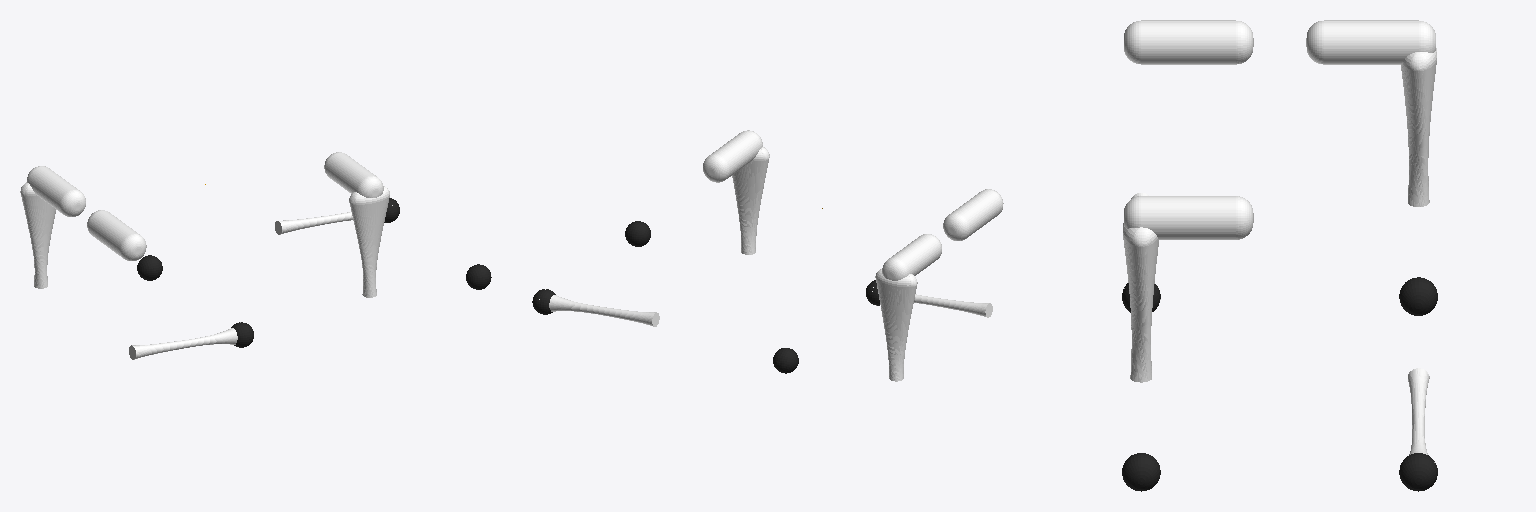
--- What the picture shows (computed from the rendered views, not written in the file) ---
Views: 3 orthographic renders of the robot side by side, from view 1: azimuth 30°, elevation 25°; view 2: azimuth 150°, elevation 25°; view 3: azimuth 270°, elevation 25°.
Robot: cyberdog_description — 19 links, 18 joints (12 revolute, 6 fixed); root link body; default pose: all joints at 0 but 4 set to mid-range because 0 is outside their limits (1 = -1.49, 3 = -1.49, 5 = -1.49, 7 = -1.49).
Visible links, largest first — view 1: upper2, upper1, hip3, hip1, hip2, lower3, lower0; view 2: upper1, upper2, hip3, hip2, hip1, lower0, lower3, toe2; view 3: hip3, hip1, hip2, upper2, upper1, lower0, toe1, toe2, toe0.
Link boxes in pixels (x1,y1,x2,y2): upper2: [349, 186, 389, 297]; upper1: [20, 182, 55, 288]; hip3: [87, 210, 146, 260]; hip1: [27, 166, 85, 216]; hip2: [324, 152, 383, 197]; lower3: [129, 322, 240, 359]; lower0: [275, 205, 392, 234]; upper1: [875, 269, 917, 381]; upper2: [732, 147, 769, 254]; hip3: [943, 189, 1003, 240]; hip2: [703, 130, 762, 182]; hip1: [882, 234, 941, 280]; lower0: [539, 289, 659, 326]; lower3: [872, 287, 992, 317]; toe2: [625, 221, 650, 246]; hip3: [1124, 20, 1253, 64]; hip1: [1306, 20, 1435, 64]; hip2: [1124, 196, 1253, 239]; upper2: [1123, 223, 1158, 382]; upper1: [1401, 48, 1436, 206]; lower0: [1408, 368, 1434, 462]; toe1: [1399, 277, 1437, 315]; toe2: [1122, 453, 1160, 491]; toe0: [1399, 453, 1437, 491].
Size in the robot's own frame: 0.748 by 0.3583 by 0.264 metres.
Meshes: 13 distinct files referenced, 7 mesh visuals loaded (7 binary STL); not drawn: 6 (reference not matched to a file when rendering).

robot.urdf — cyberdog_description:
<?xml version="1.0" encoding="utf-8"?>
<!-- This URDF was automatically created by SolidWorks to URDF Exporter! Originally created by Stephen Brawner ([email redacted]) 
     Commit Version: 1.6.0-4-g7f85cfe  Build Version: 1.6.7995.38578
     For more information, please see http://wiki.ros.org/sw_urdf_exporter -->
<robot name="cyberdog_description">
  <material name="black">
    <color rgba="0.0 0.0 0.0 1.0"/>
  </material>
  <material name="blue">
    <color rgba="0.0 0.0 0.8 1.0"/>
  </material>
  <material name="green">
    <color rgba="0.0 0.8 0.0 1.0"/>
  </material>
  <material name="grey">
    <color rgba="0.2 0.2 0.2 1.0"/>
  </material>
  <material name="silver">
    <color rgba="0.913725490196 0.913725490196 0.847058823529 1.0"/>
  </material>
  <material name="orange">
    <color rgba="1.0 0.423529411765 0.0392156862745 1.0"/>
  </material>
  <material name="brown">
    <color rgba="0.870588235294 0.811764705882 0.764705882353 1.0"/>
  </material>
  <material name="red">
    <color rgba="0.8 0.0 0.0 1.0"/>
  </material>
  <material name="white">
    <color rgba="1.0 1.0 1.0 1.0"/>
  </material>
  <!-- ros_control plugin -->
  <gazebo>
    <plugin filename="libgazebo_ros_control.so" name="gazebo_ros_control">
      <robotSimType>gazebo_ros_control/DefaultRobotHWSim</robotSimType>
    </plugin>
    <plugin filename="libground_truth_estimator.so" name="ground_truth_estimator">
      <updateRateHZ>500.0</updateRateHZ>
    </plugin>
  </gazebo>
  <!-- Show the trajectory of trunk center. -->
  <!-- <gazebo>
    <plugin filename="libLinkPlot3DPlugin.so" name="3dplotbody">
      <frequency>10</frequency>
      <plot>
        <link>body</link>
        <pose>0 0 0 0 0 0</pose>
        <material>Gazebo/Yellow</material>
      </plot>
    </plugin>
  </gazebo> -->
  <!-- Show the trajectory of foot. You can add another trajectory about another foot. -->
  <!-- <gazebo>
    <plugin filename="libLinkPlot3DPlugin.so" name="3dplot">
      <frequency>1000</frequency>
      <plot>
        <link>lower2</link>
        <pose>0 0 -0.217 0 0 0</pose>
        <material>Gazebo/Yellow</material>
      </plot>
    </plugin>
  </gazebo> -->
  <gazebo>
    <plugin filename="libgazebo_ros_force.so" name="gazebo_ros_force">
      <bodyName>trunk</bodyName>
      <topicName>/apply_force/trunk</topicName>
    </plugin>
  </gazebo>
  <gazebo reference="imu_link">
    <gravity>true</gravity>
    <sensor name="imu_sensor" type="imu">
      <always_on>true</always_on>
      <update_rate>1000</update_rate>
      <visualize>true</visualize>
      <topic>__default_topic__</topic>
      <plugin filename="libgazebo_ros_imu_sensor.so" name="imu_plugin">
        <topicName>trunk_imu</topicName>
        <bodyName>imu_link</bodyName>
        <updateRateHZ>1000.0</updateRateHZ>
        <gaussianNoise>0.0</gaussianNoise>
        <xyzOffset>0 0 0</xyzOffset>
        <rpyOffset>0 0 0</rpyOffset>
        <frameName>imu_link</frameName>
      </plugin>
      <pose>0 0 0 0 0 0</pose>
    </sensor>
  </gazebo>
  <!-- Foot contacts. -->
  <!-- <gazebo reference="lower2">
    <sensor name="toe2_contact" type="contact">
      <update_rate>100</update_rate>
      <plugin filename="libunitreeFootContactPlugin.so" name="contactPlugin"/>
      <contact>
        <collision>lower2_fixed_joint_lump__toe2_collision_1</collision>
      </contact>
    </sensor>
  </gazebo>
  <gazebo reference="lower0">
    <sensor name="toe0_contact" type="contact">
      <update_rate>100</update_rate>
      <plugin filename="libunitreeFootContactPlugin.so" name="contactPlugin"/>
      <contact>
        <collision>lower0_fixed_joint_lump__toe0_collision_1</collision>
      </contact>
    </sensor>
  </gazebo>
  <gazebo reference="lower3">
    <sensor name="toe3_contact" type="contact">
      <update_rate>100</update_rate>
      <plugin filename="libunitreeFootContactPlugin.so" name="contactPlugin"/>
      <contact>
        <collision>lower3_fixed_joint_lump__toe3_collision_1</collision>
      </contact>
    </sensor>
  </gazebo>
  <gazebo reference="lower1">
    <sensor name="toe1_contact" type="contact">
      <update_rate>100</update_rate>
      <plugin filename="libunitreeFootContactPlugin.so" name="contactPlugin"/>
      <contact>
        <collision>lower1_fixed_joint_lump__toe1_collision_1</collision>
      </contact>
    </sensor>
  </gazebo> -->
  <gazebo reference="toe0">
    <sensor name="toe0_contact" type="contact">
      <plugin filename="libgazebo_ros_bumper.so" name="toe0_plugin">
        <alwaysOn>true</alwaysOn>
        <updateRate>500</updateRate>
        <bumperTopicName>gazebo/toe0_contact_state</bumperTopicName>
        <frameName>world</frameName>
      </plugin>
      <contact>
        <collision>toe0_collision</collision>
      </contact>
      <update_rate>500</update_rate>
    </sensor>
  </gazebo>
  <gazebo reference="toe1">
    <sensor name="toe1_contact" type="contact">
      <plugin filename="libgazebo_ros_bumper.so" name="toe1_plugin">
        <alwaysOn>true</alwaysOn>
        <updateRate>500</updateRate>
        <bumperTopicName>gazebo/toe1_contact_state</bumperTopicName>
        <frameName>world</frameName>
      </plugin>
      <contact>
        <collision>toe1_collision</collision>
      </contact>
      <update_rate>500</update_rate>
    </sensor>
  </gazebo>
  <gazebo reference="toe2">
    <sensor name="toe2_contact" type="contact">
      <plugin filename="libgazebo_ros_bumper.so" name="toe2_plugin">
        <alwaysOn>true</alwaysOn>
        <updateRate>500</updateRate>
        <bumperTopicName>gazebo/toe2_contact_state</bumperTopicName>
        <frameName>world</frameName>
      </plugin>
      <contact>
        <collision>toe2_collision</collision>
      </contact>
      <update_rate>500</update_rate>
    </sensor>
  </gazebo>
  <gazebo reference="toe3">
    <sensor name="toe3_contact" type="contact">
      <plugin filename="libgazebo_ros_bumper.so" name="toe3_plugin">
        <alwaysOn>true</alwaysOn>
        <updateRate>500</updateRate>
        <bumperTopicName>gazebo/toe3_contact_state</bumperTopicName>
        <frameName>world</frameName>
      </plugin>
      <contact>
        <collision>toe3_collision</collision>
      </contact>
      <update_rate>500</update_rate>
    </sensor>
  </gazebo>
  <!-- Visualization of Foot contacts. -->
  <!-- <gazebo reference="toe2">
    <visual>
      <plugin filename="libunitreeDrawForcePlugin.so" name="drawForcePlugin">
        <topicName>toe2_contact</topicName>
      </plugin>
    </visual>
  </gazebo>
  <gazebo reference="toe0">
    <visual>
      <plugin filename="libunitreeDrawForcePlugin.so" name="drawForcePlugin">
        <topicName>toe0_contact</topicName>
      </plugin>
    </visual>
  </gazebo>
  <gazebo reference="toe3">
    <visual>
      <plugin filename="libunitreeDrawForcePlugin.so" name="drawForcePlugin">
        <topicName>toe3_contact</topicName>
      </plugin>
    </visual>
  </gazebo>
  <gazebo reference="toe1">
    <visual>
      <plugin filename="libunitreeDrawForcePlugin.so" name="drawForcePlugin">
        <topicName>toe1_contact</topicName>
      </plugin>
    </visual>
  </gazebo> -->
  <gazebo reference="body">
    <material>Gazebo/Green</material>
    <turnGravityOff>false</turnGravityOff>
  </gazebo>
  <gazebo reference="trunk">
    <mu1>0.2</mu1>
    <mu2>0.2</mu2>
    <kp value="1000000.0"/>
    <kd value="1.0"/>
  </gazebo>
  <gazebo reference="imu_link">
    <mu1>0.2</mu1>
    <mu2>0.2</mu2>
    <material>Gazebo/Red</material>
  </gazebo>
  <!-- FR leg -->
  <gazebo reference="hip2">
    <mu1>0.2</mu1>
    <mu2>0.2</mu2>
    <material>Gazebo/DarkGrey</material>
  </gazebo>
  <gazebo reference="upper2">
    <mu1>0.2</mu1>
    <mu2>0.2</mu2>
    <self_collide>1</self_collide>
    <material>Gazebo/DarkGrey</material>
    <kp value="1000000.0"/>
    <kd value="1.0"/>
  </gazebo>
  <gazebo reference="lower2">
    <mu1>0.2</mu1>
    <mu2>0.2</mu2>
    <self_collide>1</self_collide>
  </gazebo>
  <gazebo reference="toe2">
    <mu1>0.6</mu1>
    <mu2>0.6</mu2>
    <self_collide>1</self_collide>
    <material>Gazebo/DarkGrey</material>
    <kp value="1000000.0"/>
    <kd value="1.0"/>
  </gazebo>
  <!-- FL leg -->
  <gazebo reference="hip0">
    <mu1>0.2</mu1>
    <mu2>0.2</mu2>
    <material>Gazebo/DarkGrey</material>
  </gazebo>
  <gazebo reference="upper0">
    <mu1>0.2</mu1>
    <mu2>0.2</mu2>
    <self_collide>1</self_collide>
    <material>Gazebo/DarkGrey</material>
    <kp value="1000000.0"/>
    <kd value="1.0"/>
  </gazebo>
  <gazebo reference="lower0">
    <mu1>0.2</mu1>
    <mu2>0.2</mu2>
    <self_collide>1</self_collide>
  </gazebo>
  <gazebo reference="toe0">
    <mu1>0.6</mu1>
    <mu2>0.6</mu2>
    <self_collide>1</self_collide>
    <material>Gazebo/DarkGrey</material>
    <kp value="1000000.0"/>
    <kd value="1.0"/>
  </gazebo>
  <!-- RR leg -->
  <gazebo reference="hip3">
    <mu1>0.2</mu1>
    <mu2>0.2</mu2>
    <material>Gazebo/DarkGrey</material>
  </gazebo>
  <gazebo reference="upper3">
    <mu1>0.2</mu1>
    <mu2>0.2</mu2>
    <self_collide>1</self_collide>
    <material>Gazebo/DarkGrey</material>
    <kp value="1000000.0"/>
    <kd value="1.0"/>
  </gazebo>
  <gazebo reference="lower3">
    <mu1>0.2</mu1>
    <mu2>0.2</mu2>
    <self_collide>1</self_collide>
  </gazebo>
  <gazebo reference="toe3">
    <mu1>0.6</mu1>
    <mu2>0.6</mu2>
    <self_collide>1</self_collide>
    <material>Gazebo/DarkGrey</material>
    <kp value="1000000.0"/>
    <kd value="1.0"/>
  </gazebo>
  <!-- RL leg -->
  <gazebo reference="hip1">
    <mu1>0.2</mu1>
    <mu2>0.2</mu2>
    <material>Gazebo/DarkGrey</material>
  </gazebo>
  <gazebo reference="upper1">
    <mu1>0.2</mu1>
    <mu2>0.2</mu2>
    <self_collide>1</self_collide>
    <material>Gazebo/DarkGrey</material>
    <kp value="1000000.0"/>
    <kd value="1.0"/>
  </gazebo>
  <gazebo reference="lower1">
    <mu1>0.2</mu1>
    <mu2>0.2</mu2>
    <self_collide>1</self_collide>
  </gazebo>
  <gazebo reference="toe1">
    <mu1>0.6</mu1>
    <mu2>0.6</mu2>
    <self_collide>1</self_collide>
    <material>Gazebo/DarkGrey</material>
    <kp value="1000000.0"/>
    <kd value="1.0"/>
  </gazebo>

  <!-- 悬挂 -->
  <!-- <link name="world"/>
  <joint name="body_static_joint" type="fixed">
      <origin rpy="0 0 0" xyz="0 0 0"/>
      <parent link="world"/>
      <child link="body"/>
  </joint> -->

  <link name="body">
    <visual>
      <origin rpy="0 0 0" xyz="0 0 0"/>
      <geometry>
        <box size="0.001 0.001 0.001"/>
      </geometry>
    </visual>
  </link>
  <joint name="floating_base" type="fixed">
    <origin rpy="0 0 0" xyz="0 0 0"/>
    <parent link="body"/>
    <child link="trunk"/>
  </joint>
  <link name="trunk">
    <inertial>
      <origin
        xyz="0 0 0"
        rpy="0 0 0" />
      <mass value="7.18" />
      <inertia
        ixx="0.032051"
        ixy="-0.00023217"
        ixz="0.002728"
        iyy="0.13707"
        iyz="5.6623E-05"
        izz="0.14946" />
    </inertial>
    <visual>
      <origin
        xyz="0 0 0"
        rpy="0 0 0" />
      <geometry>
        <mesh filename="package://cyberdog_description/meshes/body.STL" />
      </geometry>
      <material name="">
        <color rgba="1 1 1 1" />
      </material>
    </visual>
    <collision>
      <origin
        xyz="0 0 0"
        rpy="0 0 0" />
      <geometry>
        <mesh filename="package://cyberdog_description/meshes/body.STL" />
      </geometry>
    </collision>
  </link>

  <joint name="imu_joint" type="fixed">
    <parent link="trunk"/>
    <child link="imu_link"/>
    <origin rpy="0 0 0" xyz="0 0 0"/>
  </joint>
  <link name="imu_link">
    <!-- <inertial>
      <mass value="0.001"/>
      <origin rpy="0 0 0" xyz="0 0 0"/>
      <inertia ixx="0.0001" ixy="0" ixz="0" iyy="0.0001" iyz="0" izz="0.0001"/>
    </inertial>
    <visual>
      <origin rpy="0 0 0" xyz="0 0 0"/>
      <geometry>
        <box size="0.001 0.001 0.001"/>
      </geometry>
      <material name="red"/>
    </visual>
    <collision>
      <origin rpy="0 0 0" xyz="0 0 0"/>
      <geometry>
        <box size=".001 .001 .001"/>
      </geometry>
    </collision> -->
  </link>

  <link name="hip0">
    <inertial>
      <origin
        xyz="0 0.053575 0"
        rpy="0 0 0" />
      <mass value="0.509" />
      <inertia
        ixx="0.00038097"
        ixy="1.2523E-05"
        ixz="-1.1653E-05"
        iyy="0.00069383"
        iyz="5.071E-06"
        izz="0.00047336" />
    </inertial>
    <visual>
      <origin
        xyz="0 0 0"
        rpy="0 0 0" />
      <geometry>
        <mesh filename="package://cyberdog_description/meshes/link_abad_fl.STL" />
      </geometry>
      <material name="">
        <color rgba="1 1 1 1" />
      </material>
    </visual>
    <collision>
      <origin
        xyz="0 0 0"
        rpy="0 0 0" />
      <geometry>
        <mesh filename="package://cyberdog_description/meshes/link_abad_fl.STL" />
      </geometry>
    </collision>
  </link>
  <joint
    name="8"
    type="revolute">
    <origin
      xyz="0.23536 0.05 0"
      rpy="0 0 0" />
    <parent link="trunk" />
    <child link="hip0" />
    <axis xyz="1 0 0" />
    <limit
      lower="-0.75"
      upper="0.75"
      effort="17"
      velocity="12" />
    <dynamics
      damping="0.01"
      friction="0.2" />
  </joint>
  <link name="upper0">
    <inertial>
      <origin
        xyz="0 0 -0.1"
        rpy="0 0 0" />
      <mass value="0.664" />
      <inertia
        ixx="0.0033376"
        ixy="-7.150375E-07"
        ixz="-0.00019282"
        iyy="0.0026385"
        iyz="-9.3033E-06"
        izz="0.0013093" />
    </inertial>
    <visual>
      <origin
        xyz="0 0 0"
        rpy="0 0 0" />
      <geometry>
        <mesh filename="package://cyberdog_description/meshes/link_hip_fl.STL" />
      </geometry>
      <material name="">
        <color rgba="1 1 1 1" />
      </material>
    </visual>
    <collision>
      <origin
        xyz="0 0 0"
        rpy="0 0 0" />
      <geometry>
        <mesh filename="package://cyberdog_description/meshes/link_hip_fl.STL" />
      </geometry>
    </collision>
  </link>
  <joint
    name="0"
    type="revolute">
    <origin
      xyz="0 0.10715 0"
      rpy="0 0 0" />
    <parent link="hip0" />
    <child link="upper0" />
    <axis xyz="0 1 0" />
    <limit
      lower="-1.257"
      upper="4.363"
      effort="24"
      velocity="12" />
    <dynamics
      damping="0.01"
      friction="0.2" />
  </joint>
  <link name="lower0">
    <inertial>
      <origin
        xyz="0 0 -0.11439"
        rpy="0 0 0" />
      <mass value="0.114" />
      <inertia
        ixx="0.0014553"
        ixy="-3.2376E-08"
        ixz="8.3885E-05"
        iyy="0.0021522"
        iyz="5.1259E-07"
        izz="0.00070545" />
    </inertial>
    <visual>
      <origin
        xyz="0 0 0"
        rpy="0 0 0" />
      <geometry>
        <mesh filename="package://cyberdog_description/meshes/link_knee_fl.STL" />
      </geometry>
      <material name="">
        <color rgba="1 1 1 1" />
      </material>
    </visual>
    <collision>
      <origin
        xyz="0 0 0"
        rpy="0 0 0" />
      <geometry>
        <mesh filename="package://cyberdog_description/meshes/link_knee_fl.STL" />
      </geometry>
    </collision>
  </link>
  <joint
    name="1"
    type="revolute">
    <origin
      xyz="0 0 -0.2"
      rpy="0 0 0" />
    <parent link="upper0" />
    <child link="lower0" />
    <axis xyz="0 1 0" />
    <limit
      lower="-2.478"
      upper="-0.506"
      effort="24"
      velocity="12" />
    <dynamics
      damping="0.01"
      friction="0.2" />
  </joint>
  <joint name="jtoe0" type="fixed">
    <origin rpy="0 0 0" xyz="0 0 -0.217"/>
    <parent link="lower0"/>
    <child link="toe0"/>
  </joint>
  <link name="toe0">
    <visual>
      <origin rpy="0 0 0" xyz="0 0 0"/>
      <geometry>
        <sphere radius="0.022"/>
      </geometry>
      <material name="grey"/>
    </visual>
    <collision>
      <origin rpy="0 0 0" xyz="0 0 0"/>
      <geometry>
        <sphere radius="0.022"/>
      </geometry>
    </collision>
    <inertial>
      <mass value="0.06"/>
      <inertia ixx="0.0" ixy="0.0" ixz="0.0" iyy="0.0" iyz="0.0" izz="0.0"/>
    </inertial>
  </link>

  <transmission name="transmission_8">
    <type>transmission_interface/SimpleTransmission</type>
    <joint name="8">
      <hardwareInterface>hardware_interface/EffortJointInterface</hardwareInterface>
    </joint>
    <actuator name="motor_8">
      <hardwareInterface>hardware_interface/EffortJointInterface</hardwareInterface>
      <mechanicalReduction>1</mechanicalReduction>
    </actuator>
  </transmission>
  <transmission name="transmission_0">
    <type>transmission_interface/SimpleTransmission</type>
    <joint name="0">
      <hardwareInterface>hardware_interface/EffortJointInterface</hardwareInterface>
    </joint>
    <actuator name="motor_0">
      <hardwareInterface>hardware_interface/EffortJointInterface</hardwareInterface>
      <mechanicalReduction>1</mechanicalReduction>
    </actuator>
  </transmission>
  <transmission name="transmission_1">
    <type>transmission_interface/SimpleTransmission</type>
    <joint name="1">
      <hardwareInterface>hardware_interface/EffortJointInterface</hardwareInterface>
    </joint>
    <actuator name="motor_1">
      <hardwareInterface>hardware_interface/EffortJointInterface</hardwareInterface>
      <mechanicalReduction>1</mechanicalReduction>
    </actuator>
  </transmission>

  <link name="hip1">
    <inertial>
      <origin
        xyz="0 0.053575 0"
        rpy="0 0 0" />
      <mass value="0.509" />
      <inertia
        ixx="0.00038097"
        ixy="1.2523E-05"
        ixz="-1.1653E-05"
        iyy="0.00069383"
        iyz="5.071E-06"
        izz="0.00047336" />
    </inertial>
    <visual>
      <origin
        xyz="0 0 0"
        rpy="0 0 0" />
      <geometry>
        <mesh filename="package://cyberdog_description/meshes/link_abad_bl.STL" />
      </geometry>
      <material name="">
        <color rgba="1 1 1 1" />
      </material>
    </visual>
    <collision>
      <origin
        xyz="0 0 0"
        rpy="0 0 0" />
      <geometry>
        <mesh filename="package://cyberdog_description/meshes/link_abad_bl.STL" />
      </geometry>
    </collision>
  </link>
  <joint
    name="9"
    type="revolute">
    <origin
      xyz="-0.23536 0.05 0"
      rpy="0 0 0" />
    <parent link="trunk" />
    <child link="hip1" />
    <axis xyz="1 0 0" />
    <limit
      lower="-0.75"
      upper="0.75"
      effort="17"
      velocity="12" />
    <dynamics
      damping="0.01"
      friction="0.2" />
  </joint>
  <link name="upper1">
    <inertial>
      <origin
        xyz="0 0 -0.1"
        rpy="0 0 0" />
      <mass value="0.664" />
      <inertia
        ixx="0.0033376"
        ixy="-7.1504E-07"
        ixz="-0.00019282"
        iyy="0.0026385"
        iyz="-9.3033E-06"
        izz="0.0013093" />
    </inertial>
    <visual>
      <origin
        xyz="0 0 0"
        rpy="0 0 0" />
      <geometry>
        <mesh filename="package://cyberdog_description/meshes/link_hip_bl.STL" />
      </geometry>
      <material name="">
        <color rgba="1 1 1 1" />
      </material>
    </visual>
    <collision>
      <origin
        xyz="0 0 0"
        rpy="0 0 0" />
      <geometry>
        <mesh filename="package://cyberdog_description/meshes/link_hip_bl.STL" />
      </geometry>
    </collision>
  </link>
  <joint
    name="2"
    type="revolute">
    <origin
      xyz="0 0.10715 0"
      rpy="0 0 0" />
    <parent link="hip1" />
    <child link="upper1" />
    <axis xyz="0 1 0" />
    <limit
      lower="-2.01"
      upper="3.49"
      effort="24"
      velocity="12" />
    <dynamics
      damping="0.01"
      friction="0.2" />
  </joint>
  <link name="lower1">
    <inertial>
      <origin
        xyz="0 0 -0.11439"
        rpy="0 0 0" />
      <mass value="0.114" />
      <inertia
        ixx="0.0014553"
        ixy="-3.2376E-08"
        ixz="8.3885E-05"
        iyy="0.0021522"
        iyz="5.1259E-07"
        izz="0.00070545" />
    </inertial>
    <visual>
      <origin
        xyz="0 0 0"
        rpy="0 0 0" />
      <geometry>
        <mesh filename="package://cyberdog_description/meshes/link_knee_bl.STL" />
      </geometry>
      <material name="">
        <color rgba="1 1 1 1" />
      </material>
    </visual>
    <collision>
      <origin
        xyz="0 0 0"
        rpy="0 0 0" />
      <geometry>
        <mesh filename="package://cyberdog_description/meshes/link_knee_bl.STL" />
      </geometry>
    </collision>
  </link>
  <joint
    name="3"
    type="revolute">
    <origin
      xyz="0 0 -0.2"
      rpy="0 0 0" />
    <parent link="upper1" />
    <child link="lower1" />
    <axis xyz="0 1 0" />
    <limit
      lower="-2.478"
      upper="-0.506"
      effort="24"
      velocity="12" />
    <dynamics
      damping="0.01"
      friction="0.2" />
  </joint>
  <joint name="jtoe1" type="fixed">
    <origin rpy="0 0 0" xyz="0 0 -0.217"/>
    <parent link="lower1"/>
    <child link="toe1"/>
  </joint>
  <link name="toe1">
    <visual>
      <origin rpy="0 0 0" xyz="0 0 0"/>
      <geometry>
        <sphere radius="0.022"/>
      </geometry>
      <material name="grey"/>
    </visual>
    <collision>
      <origin rpy="0 0 0" xyz="0 0 0"/>
      <geometry>
        <sphere radius="0.022"/>
      </geometry>
    </collision>
    <inertial>
      <mass value="0.06"/>
      <inertia ixx="0.0" ixy="0.0" ixz="0.0" iyy="0.0" iyz="0.0" izz="0.0"/>
    </inertial>
  </link>

  <transmission name="transmission_9">
    <type>transmission_interface/SimpleTransmission</type>
    <joint name="9">
      <hardwareInterface>hardware_interface/EffortJointInterface</hardwareInterface>
    </joint>
    <actuator name="motor_9">
      <hardwareInterface>hardware_interface/EffortJointInterface</hardwareInterface>
      <mechanicalReduction>1</mechanicalReduction>
    </actuator>
  </transmission>
  <transmission name="transmission_2">
    <type>transmission_interface/SimpleTransmission</type>
    <joint name="2">
      <hardwareInterface>hardware_interface/EffortJointInterface</hardwareInterface>
    </joint>
    <actuator name="motor_2">
      <hardwareInterface>hardware_interface/EffortJointInterface</hardwareInterface>
      <mechanicalReduction>1</mechanicalReduction>
    </actuator>
  </transmission>
  <transmission name="transmission_3">
    <type>transmission_interface/SimpleTransmission</type>
    <joint name="3">
      <hardwareInterface>hardware_interface/EffortJointInterface</hardwareInterface>
    </joint>
    <actuator name="motor_3">
      <hardwareInterface>hardware_interface/EffortJointInterface</hardwareInterface>
      <mechanicalReduction>1</mechanicalReduction>
    </actuator>
  </transmission>

  <link name="hip2">
    <inertial>
      <origin
        xyz="0 -0.053575 0"
        rpy="0 0 0" />
      <mass value="0.509" />
      <inertia
        ixx="0.00038097"
        ixy="1.2523E-05"
        ixz="-1.1653E-05"
        iyy="0.00069383"
        iyz="5.071E-06"
        izz="0.00047336" />
    </inertial>
    <visual>
      <origin
        xyz="0 0 0"
        rpy="0 0 0" />
      <geometry>
        <mesh filename="package://cyberdog_description/meshes/link_abad_fr.STL" />
      </geometry>
      <material name="">
        <color rgba="1 1 1 1" />
      </material>
    </visual>
    <collision>
      <origin
        xyz="0 0 0"
        rpy="0 0 0" />
      <geometry>
        <mesh filename="package://cyberdog_description/meshes/link_abad_fr.STL" />
      </geometry>
    </collision>
  </link>
  <joint
    name="10"
    type="revolute">
    <origin
      xyz="0.23536 -0.05 0"
      rpy="0 0 0" />
    <parent link="trunk" />
    <child link="hip2" />
    <axis xyz="1 0 0" />
    <limit
      lower="-0.75"
      upper="0.75"
      effort="17"
      velocity="12" />
    <dynamics
      damping="0.01"
      friction="0.2" />
  </joint>
  <link name="upper2">
    <inertial>
      <origin
        xyz="0 0 -0.1"
        rpy="0 0 0" />
      <mass value="0.664" />
      <inertia
        ixx="0.0033376"
        ixy="-7.1504E-07"
        ixz="-0.00019282"
        iyy="0.0026385"
        iyz="-9.3033E-06"
        izz="0.0013093" />
    </inertial>
    <visual>
      <origin
        xyz="0 0 0"
        rpy="0 0 0" />
      <geometry>
        <mesh filename="package://cyberdog_description/meshes/link_hip_fr.STL" />
      </geometry>
      <material name="">
        <color rgba="1 1 1 1" />
      </material>
    </visual>
    <collision>
      <origin
        xyz="0 0 0"
        rpy="0 0 0" />
      <geometry>
        <mesh filename="package://cyberdog_description/meshes/link_hip_fr.STL" />
      </geometry>
    </collision>
  </link>
  <joint
    name="4"
    type="revolute">
    <origin
      xyz="0 -0.10715 0"
      rpy="0 0 0" />
    <parent link="hip2" />
    <child link="upper2" />
    <axis xyz="0 1 0" />
    <limit
      lower="-1.257"
      upper="4.363"
      effort="24"
      velocity="12" />
    <dynamics
      damping="0.01"
      friction="0.2" />
  </joint>
  <link name="lower2">
    <inertial>
      <origin
        xyz="0 0 -0.11439"
        rpy="0 0 0" />
      <mass value="0.114" />
      <inertia
        ixx="0.0014553"
        ixy="-3.2376E-08"
        ixz="8.3885E-05"
        iyy="0.0021522"
        iyz="5.1259E-07"
        izz="0.00070545" />
    </inertial>
    <visual>
      <origin
        xyz="0 0 0"
        rpy="0 0 0" />
      <geometry>
        <mesh filename="package://cyberdog_description/meshes/link_knee_fr.STL" />
      </geometry>
      <material name="">
        <color rgba="1 1 1 1" />
      </material>
    </visual>
    <collision>
      <origin
        xyz="0 0 0"
        rpy="0 0 0" />
      <geometry>
        <mesh filename="package://cyberdog_description/meshes/link_knee_fr.STL" />
      </geometry>
    </collision>
  </link>
  <joint
    name="5"
    type="revolute">
    <origin
      xyz="0 0 -0.2"
      rpy="0 0 0" />
    <parent link="upper2" />
    <child link="lower2" />
    <axis xyz="0 1 0" />
    <limit
      lower="-2.478"
      upper="-0.506"
      effort="24"
      velocity="12" />
    <dynamics
      damping="0.01"
      friction="0.2" />
  </joint>
  <joint name="jtoe2" type="fixed">
    <origin rpy="0 0 0" xyz="0 0 -0.217"/>
    <parent link="lower2"/>
    <child link="toe2"/>
  </joint>
  <link name="toe2">
    <visual>
      <origin rpy="0 0 0" xyz="0 0 0"/>
      <geometry>
        <sphere radius="0.022"/>
      </geometry>
      <material name="grey"/>
    </visual>
    <collision>
      <origin rpy="0 0 0" xyz="0 0 0"/>
      <geometry>
        <sphere radius="0.022"/>
      </geometry>
    </collision>
    <inertial>
      <mass value="0.06"/>
      <inertia ixx="0.0" ixy="0.0" ixz="0.0" iyy="0.0" iyz="0.0" izz="0.0"/>
    </inertial>
  </link>

  <transmission name="transmission_10">
    <type>transmission_interface/SimpleTransmission</type>
    <joint name="10">
      <hardwareInterface>hardware_interface/EffortJointInterface</hardwareInterface>
    </joint>
    <actuator name="motor_10">
      <hardwareInterface>hardware_interface/EffortJointInterface</hardwareInterface>
      <mechanicalReduction>1</mechanicalReduction>
    </actuator>
  </transmission>
  <transmission name="transmission_4">
    <type>transmission_interface/SimpleTransmission</type>
    <joint name="4">
      <hardwareInterface>hardware_interface/EffortJointInterface</hardwareInterface>
    </joint>
    <actuator name="motor_4">
      <hardwareInterface>hardware_interface/EffortJointInterface</hardwareInterface>
      <mechanicalReduction>1</mechanicalReduction>
    </actuator>
  </transmission>
  <transmission name="transmission_5">
    <type>transmission_interface/SimpleTransmission</type>
    <joint name="5">
      <hardwareInterface>hardware_interface/EffortJointInterface</hardwareInterface>
    </joint>
    <actuator name="motor_5">
      <hardwareInterface>hardware_interface/EffortJointInterface</hardwareInterface>
      <mechanicalReduction>1</mechanicalReduction>
    </actuator>
  </transmission>

  <link name="hip3">
    <inertial>
      <origin
        xyz="0 -0.053575 0"
        rpy="0 0 0" />
      <mass value="0.509" />
      <inertia
        ixx="0.00038097"
        ixy="1.2523E-05"
        ixz="-1.1653E-05"
        iyy="0.00069383"
        iyz="5.071E-06"
        izz="0.00047336" />
    </inertial>
    <visual>
      <origin
        xyz="0 0 0"
        rpy="0 0 0" />
      <geometry>
        <mesh filename="package://cyberdog_description/meshes/link_abad_br.STL" />
      </geometry>
      <material name="">
        <color rgba="1 1 1 1" />
      </material>
    </visual>
    <collision>
      <origin
        xyz="0 0 0"
        rpy="0 0 0" />
      <geometry>
        <mesh filename="package://cyberdog_description/meshes/link_abad_br.STL" />
      </geometry>
    </collision>
  </link>
  <joint
    name="11"
    type="revolute">
    <origin
      xyz="-0.23536 -0.05 0"
      rpy="0 0 0" />
    <parent link="trunk" />
    <child link="hip3" />
    <axis xyz="1 0 0" />
    <limit
      lower="-0.75"
      upper="0.75"
      effort="17"
      velocity="12" />
    <dynamics
      damping="0.01"
      friction="0.2" />
  </joint>
  <link name="upper3">
    <inertial>
      <origin
        xyz="0 0 -0.1"
        rpy="0 0 0" />
      <mass value="0.664" />
      <inertia
        ixx="0.0033376"
        ixy="-7.150375E-07"
        ixz="-0.00019282"
        iyy="0.0026385"
        iyz="-9.3033E-06"
        izz="0.0013093" />
    </inertial>
    <visual>
      <origin
        xyz="0 0 0"
        rpy="0 0 0" />
      <geometry>
        <mesh filename="package://cyberdog_description/meshes/link_hip_br.STL" />
      </geometry>
      <material name="">
        <color rgba="1 1 1 1" />
      </material>
    </visual>
    <collision>
      <origin
        xyz="0 0 0"
        rpy="0 0 0" />
      <geometry>
        <mesh filename="package://cyberdog_description/meshes/link_hip_br.STL" />
      </geometry>
    </collision>
  </link>
  <joint
    name="6"
    type="revolute">
    <origin
      xyz="0 -0.10715 0"
      rpy="0 0 0" />
    <parent link="hip3" />
    <child link="upper3" />
    <axis xyz="0 1 0" />
    <limit
      lower="-2.01"
      upper="3.49"
      effort="24"
      velocity="12" />
    <dynamics
      damping="0.01"
      friction="0.2" />
  </joint>
  <link name="lower3">
    <inertial>
      <origin
        xyz="0 0 -0.11439"
        rpy="0 0 0" />
      <mass value="0.114" />
      <inertia
        ixx="0.0014553"
        ixy="-3.2376E-08"
        ixz="8.3885E-05"
        iyy="0.0021522"
        iyz="5.1259E-07"
        izz="0.00070545" />
    </inertial>
    <visual>
      <origin
        xyz="0 0 0"
        rpy="0 0 0" />
      <geometry>
        <mesh filename="package://cyberdog_description/meshes/link_knee_br.STL" />
      </geometry>
      <material name="">
        <color rgba="1 1 1 1" />
      </material>
    </visual>
    <collision>
      <origin
        xyz="0 0 0"
        rpy="0 0 0" />
      <geometry>
        <mesh filename="package://cyberdog_description/meshes/link_knee_br.STL" />
      </geometry>
    </collision>
  </link>
  <joint
    name="7"
    type="revolute">
    <origin
      xyz="0 0 -0.2"
      rpy="0 0 0" />
    <parent link="upper3" />
    <child link="lower3" />
    <axis xyz="0 1 0" />
    <limit
      lower="-2.478"
      upper="-0.506"
      effort="24"
      velocity="12" />
    <dynamics
      damping="0.01"
      friction="0.2" />
  </joint>
  <joint name="jtoe3" type="fixed">
    <origin rpy="0 0 0" xyz="0 0 -0.217"/>
    <parent link="lower3"/>
    <child link="toe3"/>
  </joint>
  <link name="toe3">
    <visual>
      <origin rpy="0 0 0" xyz="0 0 0"/>
      <geometry>
        <sphere radius="0.022"/>
      </geometry>
      <material name="grey"/>
    </visual>
    <collision>
      <origin rpy="0 0 0" xyz="0 0 0"/>
      <geometry>
        <sphere radius="0.022"/>
      </geometry>
    </collision>
    <inertial>
      <mass value="0.06"/>
      <inertia ixx="0.0" ixy="0.0" ixz="0.0" iyy="0.0" iyz="0.0" izz="0.0"/>
    </inertial>
  </link>

  <transmission name="transmission_11">
    <type>transmission_interface/SimpleTransmission</type>
    <joint name="11">
      <hardwareInterface>hardware_interface/EffortJointInterface</hardwareInterface>
    </joint>
    <actuator name="motor_11">
      <hardwareInterface>hardware_interface/EffortJointInterface</hardwareInterface>
      <mechanicalReduction>1</mechanicalReduction>
    </actuator>
  </transmission>
  <transmission name="transmission_6">
    <type>transmission_interface/SimpleTransmission</type>
    <joint name="6">
      <hardwareInterface>hardware_interface/EffortJointInterface</hardwareInterface>
    </joint>
    <actuator name="motor_6">
      <hardwareInterface>hardware_interface/EffortJointInterface</hardwareInterface>
      <mechanicalReduction>1</mechanicalReduction>
    </actuator>
  </transmission>
  <transmission name="transmission_7">
    <type>transmission_interface/SimpleTransmission</type>
    <joint name="7">
      <hardwareInterface>hardware_interface/EffortJointInterface</hardwareInterface>
    </joint>
    <actuator name="motor_7">
      <hardwareInterface>hardware_interface/EffortJointInterface</hardwareInterface>
      <mechanicalReduction>1</mechanicalReduction>
    </actuator>
  </transmission>

  <gazebo reference='jtoe0'>
    <preserveFixedJoint>true</preserveFixedJoint>
  </gazebo>
  <gazebo reference='jtoe1'>
    <preserveFixedJoint>true</preserveFixedJoint>
  </gazebo>
  <gazebo reference='jtoe2'>
    <preserveFixedJoint>true</preserveFixedJoint>
  </gazebo>
  <gazebo reference='jtoe3'>
    <preserveFixedJoint>true</preserveFixedJoint>
  </gazebo>

</robot>
